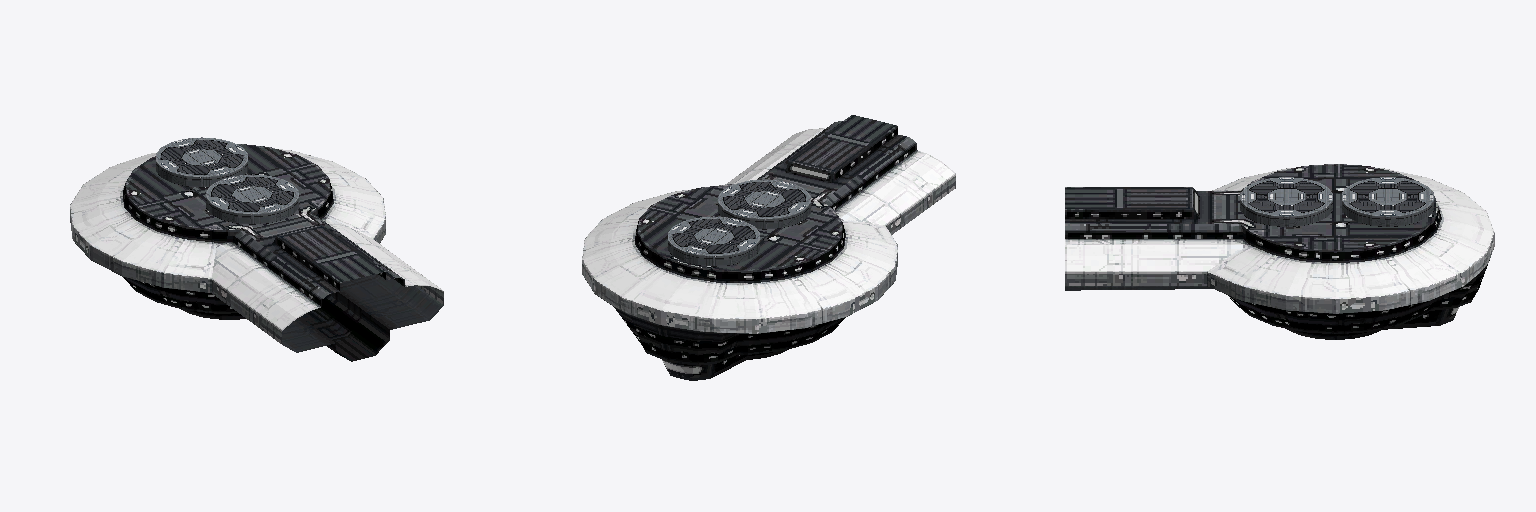
The picture shows the model from 3 angles: view 1: azimuth 30°, elevation 25°; view 2: azimuth 150°, elevation 25°; view 3: azimuth 270°, elevation 25°; orthographic projection.
Parts seen in each view (by area): view 1: humanoid_01_military_station_section_medium|polySurface52|polyS, humanoid_01_military_station_section_medium|polySurface42|polyS; view 2: humanoid_01_military_station_section_medium|polySurface52|polyS, humanoid_01_military_station_section_medium|polySurface42|polyS; view 3: humanoid_01_military_station_section_medium|polySurface52|polyS, humanoid_01_military_station_section_medium|polySurface42|polyS.
Boxes of the visible parts, <box> form: humanoid_01_military_station_section_medium|polySurface52|polyS: <box>70,144,443,361</box>; humanoid_01_military_station_section_medium|polySurface42|polyS: <box>156,137,298,224</box>; humanoid_01_military_station_section_medium|polySurface52|polyS: <box>582,115,955,380</box>; humanoid_01_military_station_section_medium|polySurface42|polyS: <box>668,179,810,266</box>; humanoid_01_military_station_section_medium|polySurface52|polyS: <box>1065,164,1494,339</box>; humanoid_01_military_station_section_medium|polySurface42|polyS: <box>1240,177,1433,226</box>.
Size of the model in its own units: 0.0001 by 0 by 0.0001.
2 materials, 2 textured.